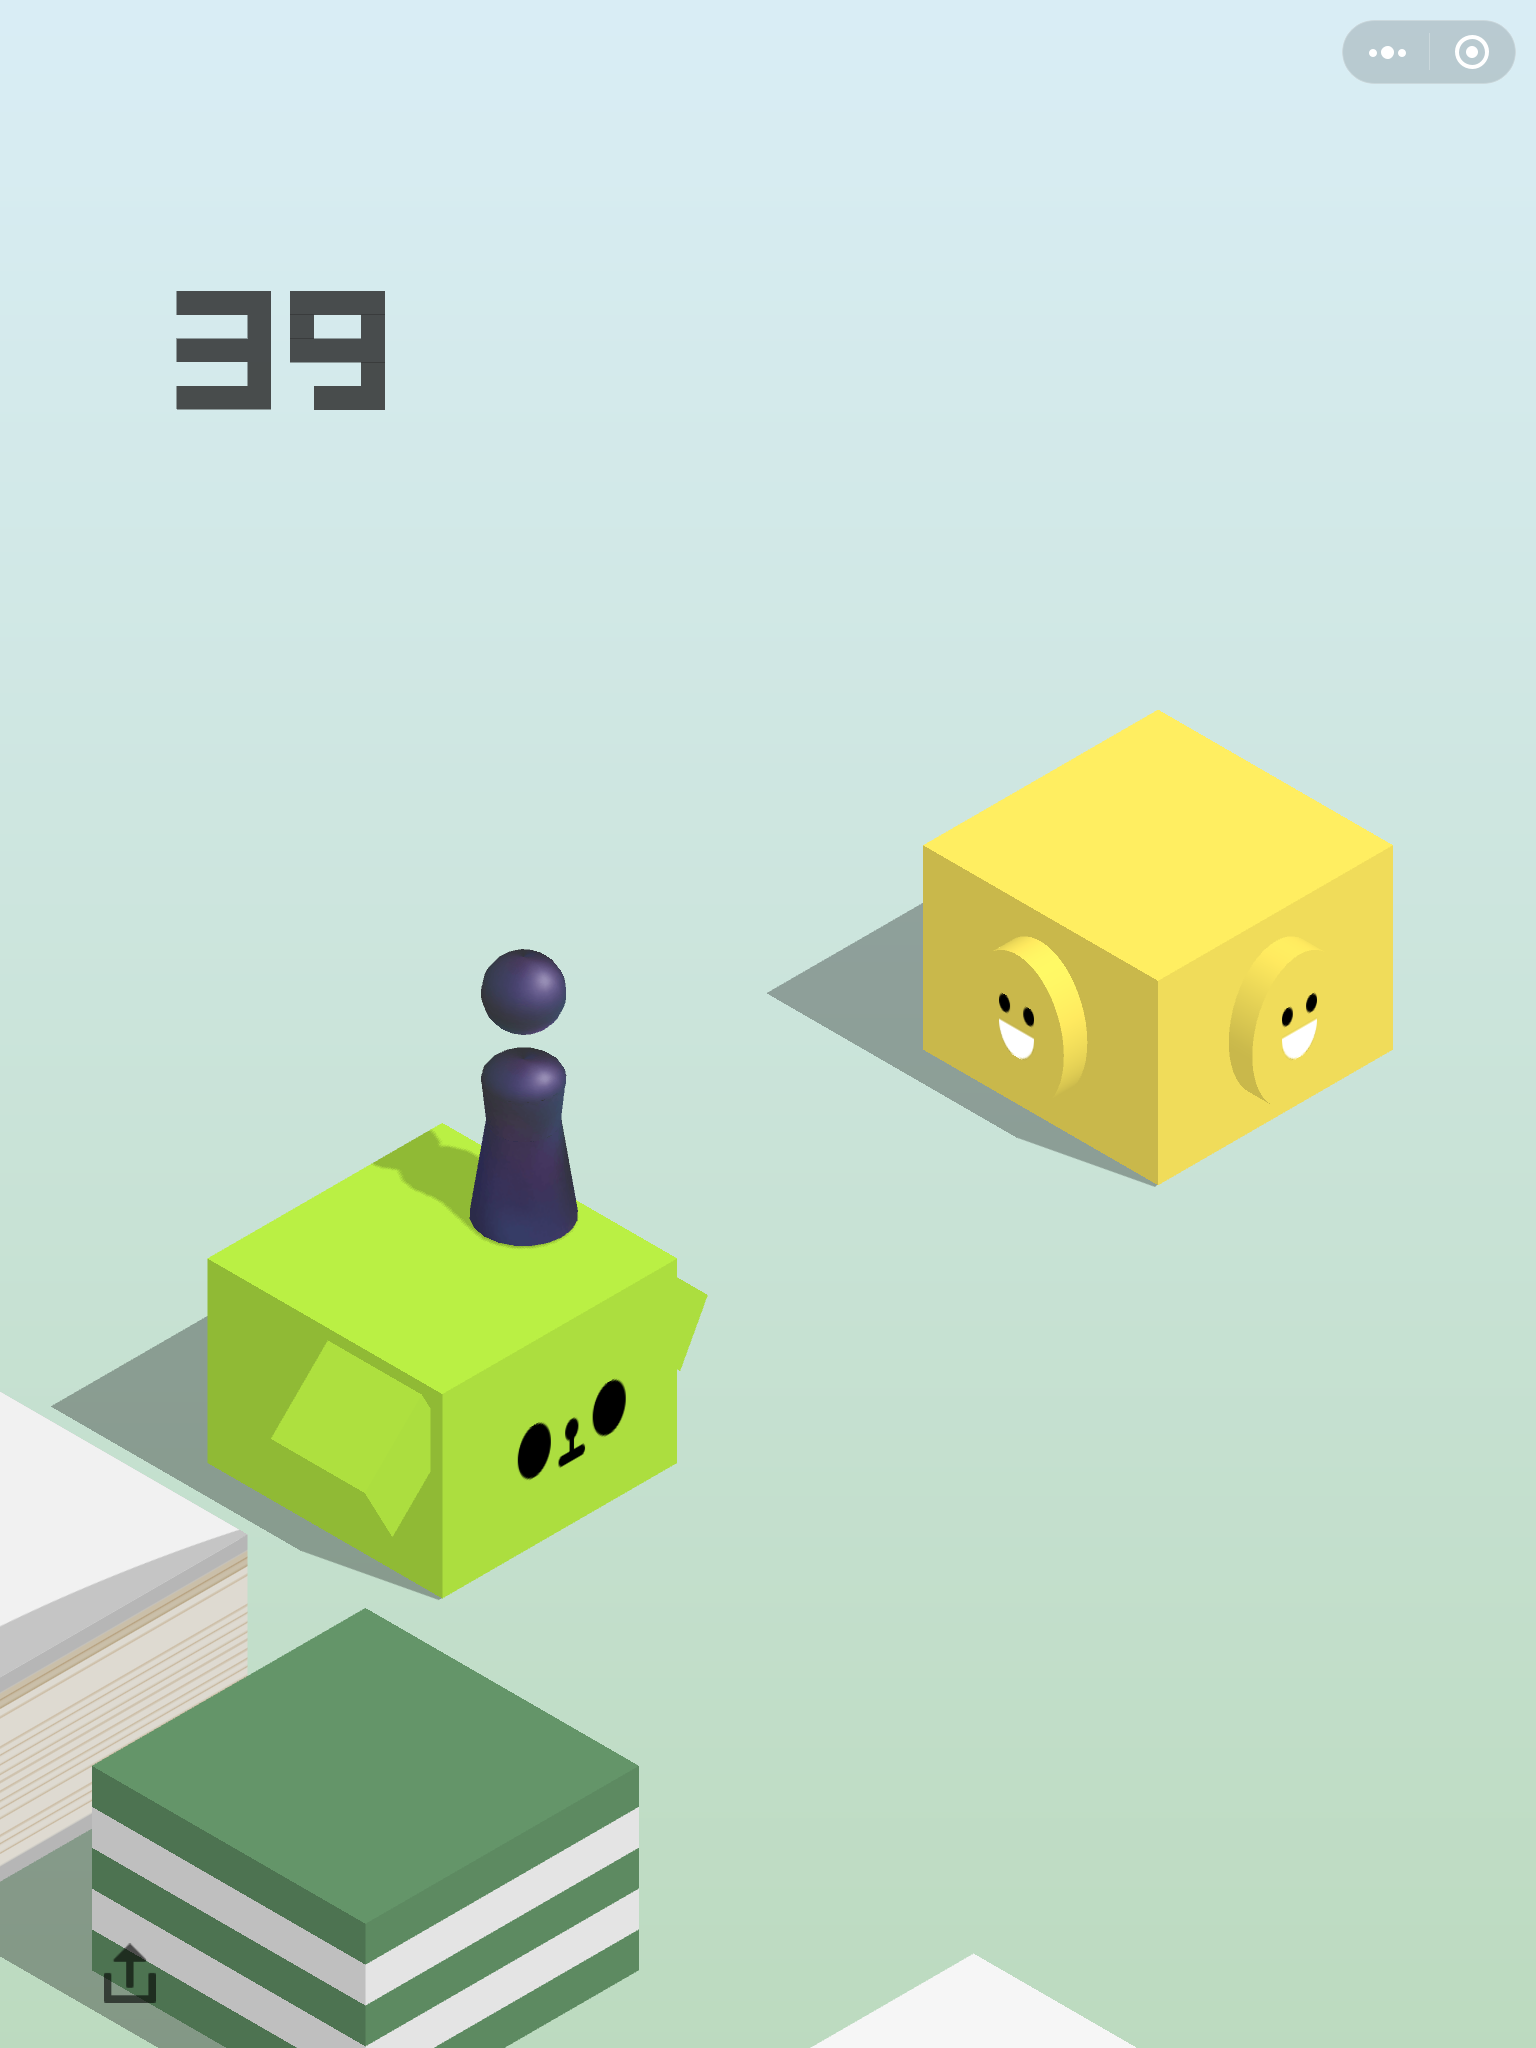f: (200, 1119, 708, 1605), (84, 1608, 644, 2048), (916, 703, 1400, 1193), (2, 1377, 252, 1880)
r: (463, 943, 586, 1251)
